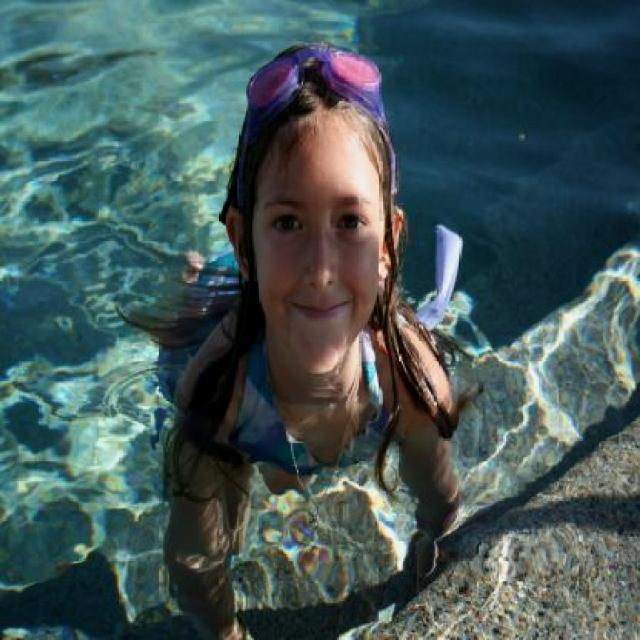face_nomask: (260, 189, 382, 328)
glasses: (235, 43, 399, 197)
person: (148, 54, 470, 588)
